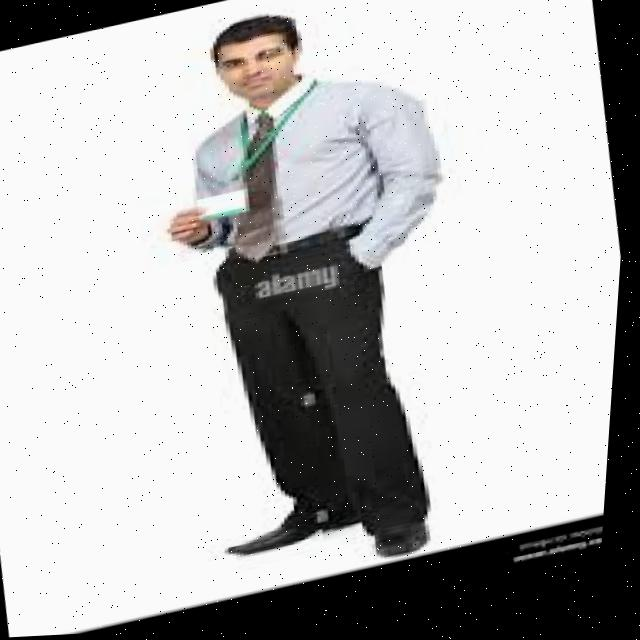id_card: (181, 105, 300, 235)
